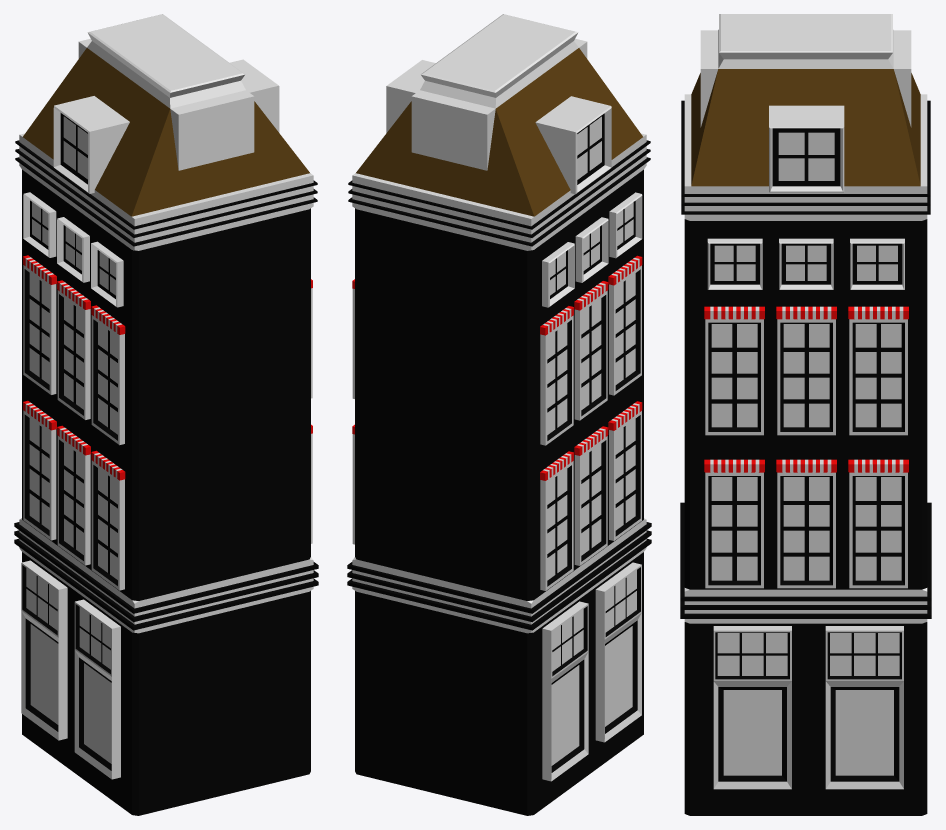
Rendered from CanalHouses3.fbx.
3 views of the same model, side by side, from view 1: azimuth 30°, elevation 25°; view 2: azimuth 150°, elevation 25°; view 3: azimuth 270°, elevation 25° (orthographic). The views are drawn at different scales.
Parts seen in each view (by area): view 1: Cube.002; view 2: Cube.002; view 3: Cube.002.
Part boxes in pixels (left/top/right/bottom): Cube.002: left=14, top=14, right=318, bottom=815; Cube.002: left=347, top=14, right=651, bottom=815; Cube.002: left=680, top=14, right=931, bottom=815.
Size of the model in its own units: 513 by 1744 by 539.
